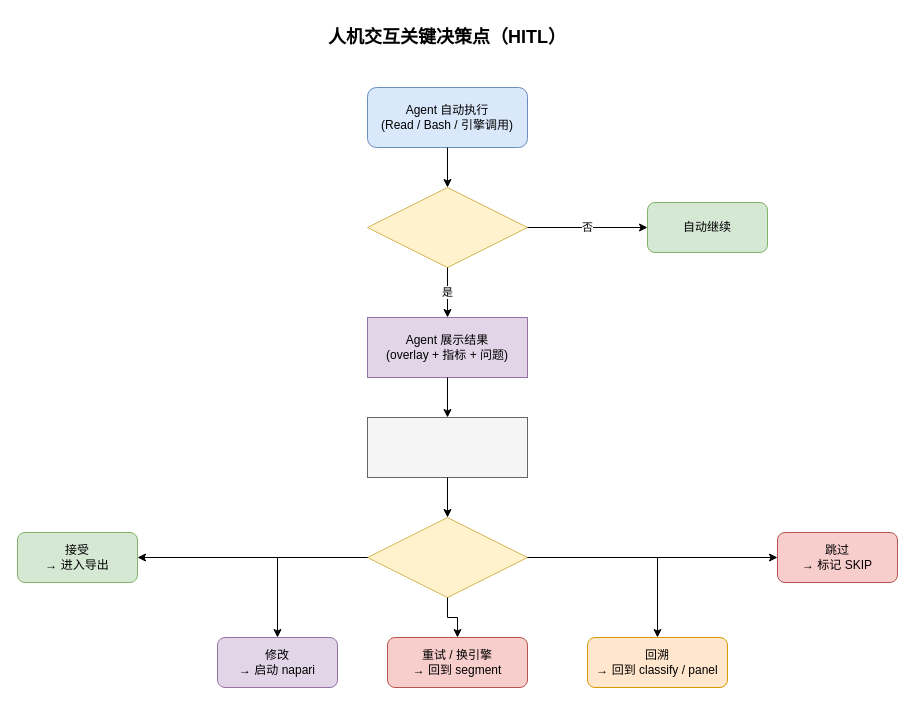
Some shapes in this 915 by 705 pixel diagram are drawn without their labels. The box of each missing label's shape, as (x1, y1, x2, y2) in pixels:
指令分类: (366, 516, 528, 598)
用户自然语言回复: (366, 416, 528, 478)
需要人决策吗?: (366, 186, 528, 268)
